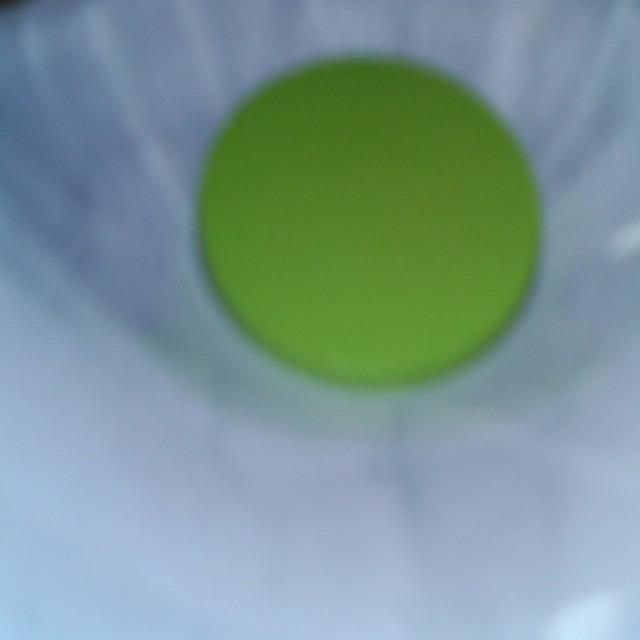circle: (198, 61, 540, 385)
